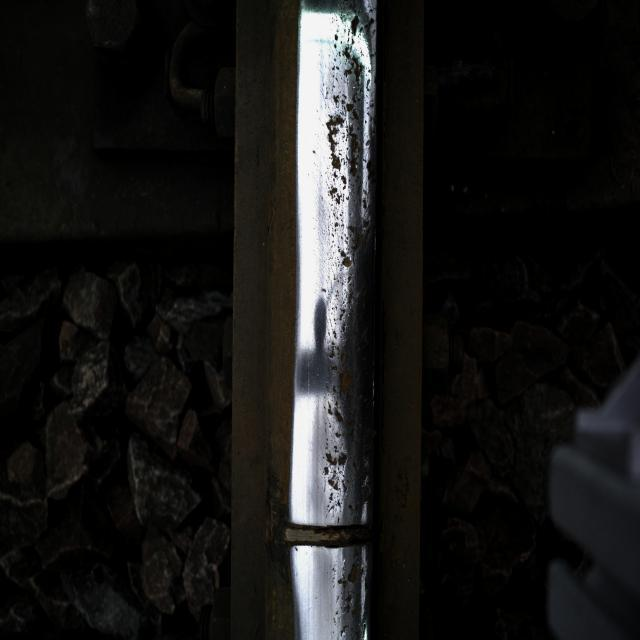scar: (320, 2, 359, 478)
spalling: (272, 498, 382, 568)
